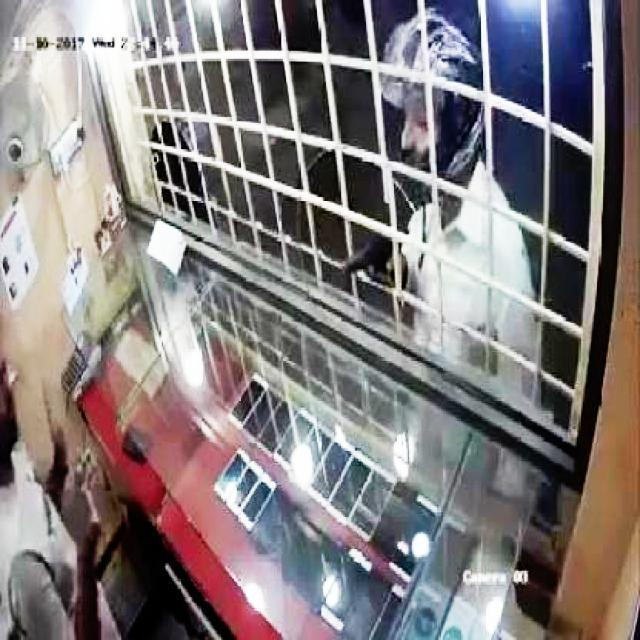Gun: (336, 233, 396, 284)
